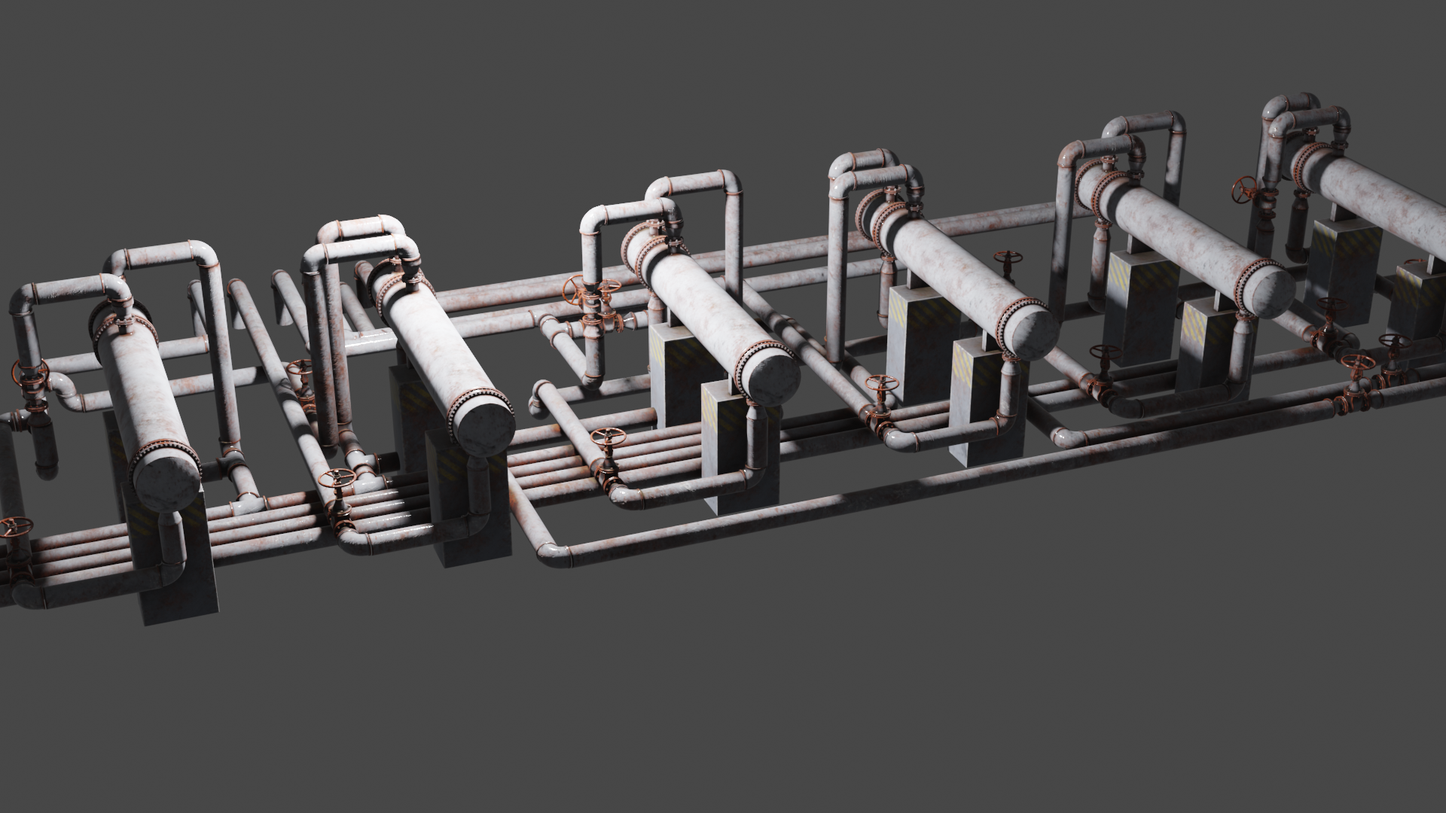HE_1: (1281, 132, 1444, 265)
HE_2: (1075, 153, 1292, 316)
HE_3: (854, 187, 1055, 355)
HE_4: (620, 219, 800, 400)
HE_5: (366, 262, 521, 456)
HE_6: (86, 300, 199, 517)
